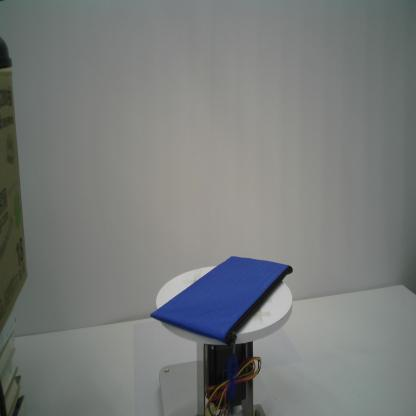Stationery: (150, 253, 295, 404)
